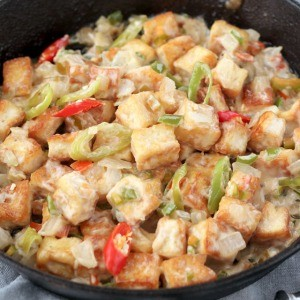tofu_brain food: (30, 40, 257, 250)
